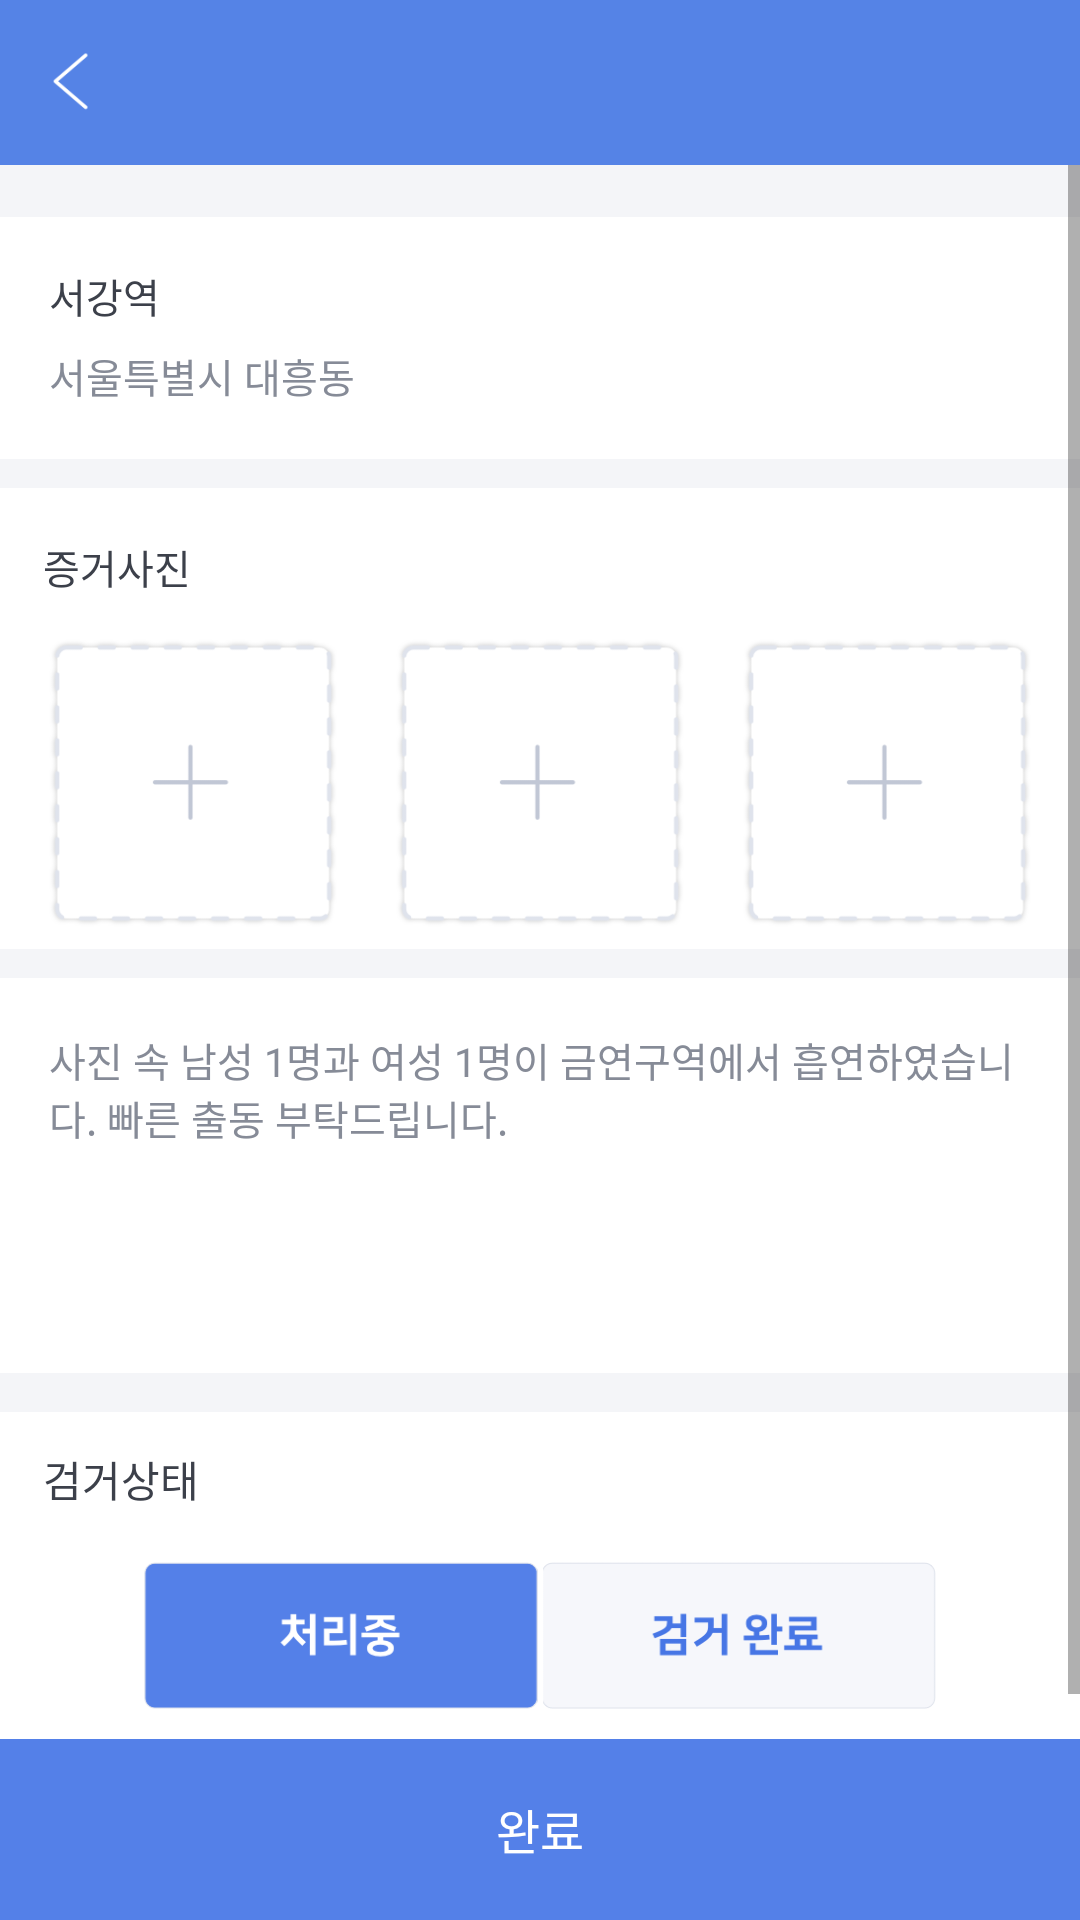

Icons on this 1080×1920 Android screen, each with its box as (x1, y1, x2, y2):
back: (53, 53, 88, 110)
